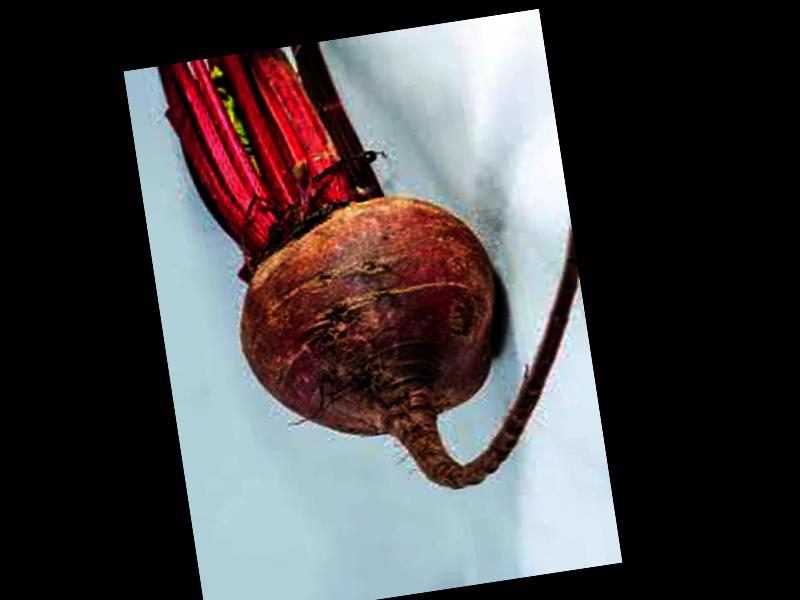Beet: (155, 9, 603, 523)
